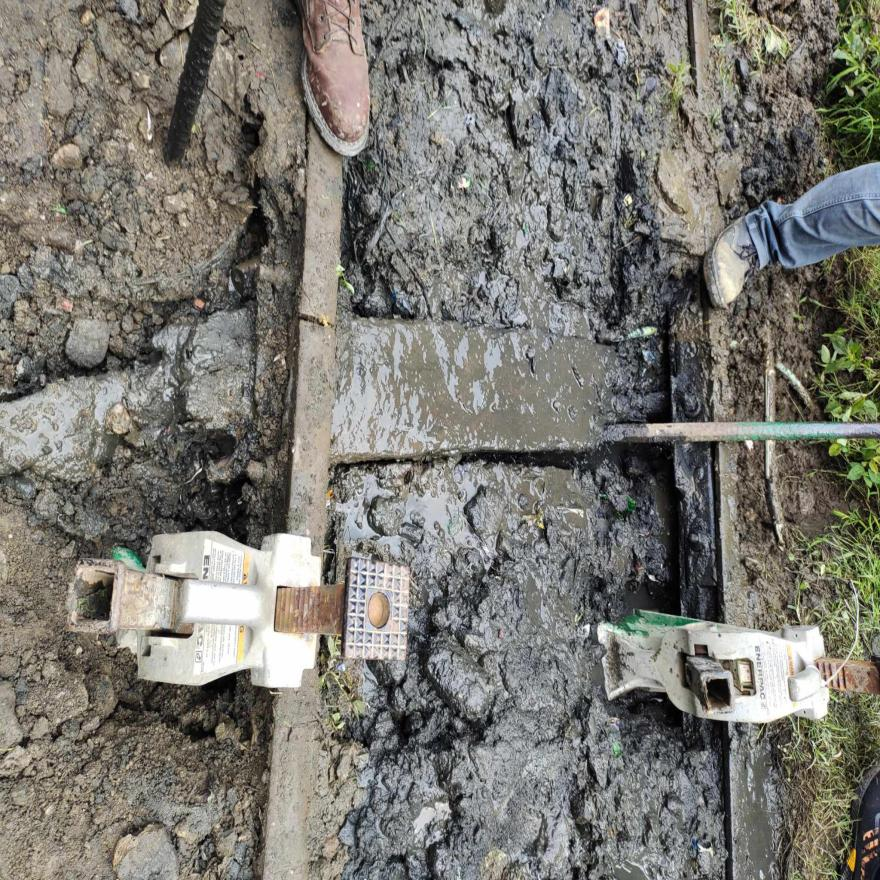railway-gap: (267, 259, 377, 386)
